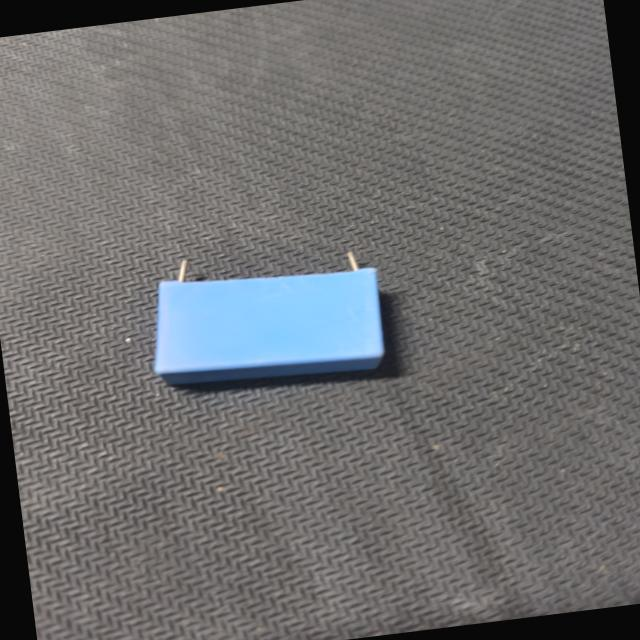capacitor: (128, 222, 402, 408)
